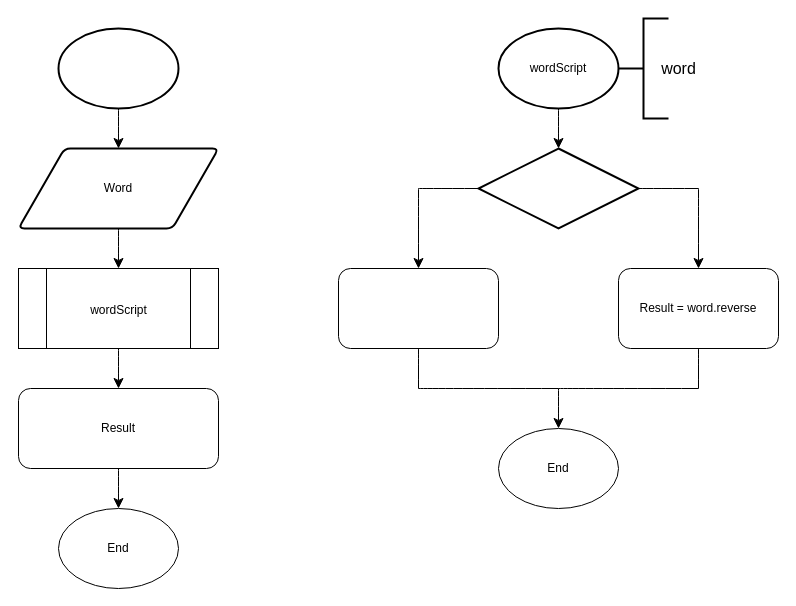
Image size: 796x606. Some labels were removed from this diagram. The shapes that lost their labels are listed below. From the top down, each one's box as (x1, y1, x2, y2) in pixels, then its label:
(57, 27, 179, 109): Start
(477, 147, 639, 229): word[-3, 2] == "CS"
(338, 268, 498, 348): Result = 2**word.size-1
